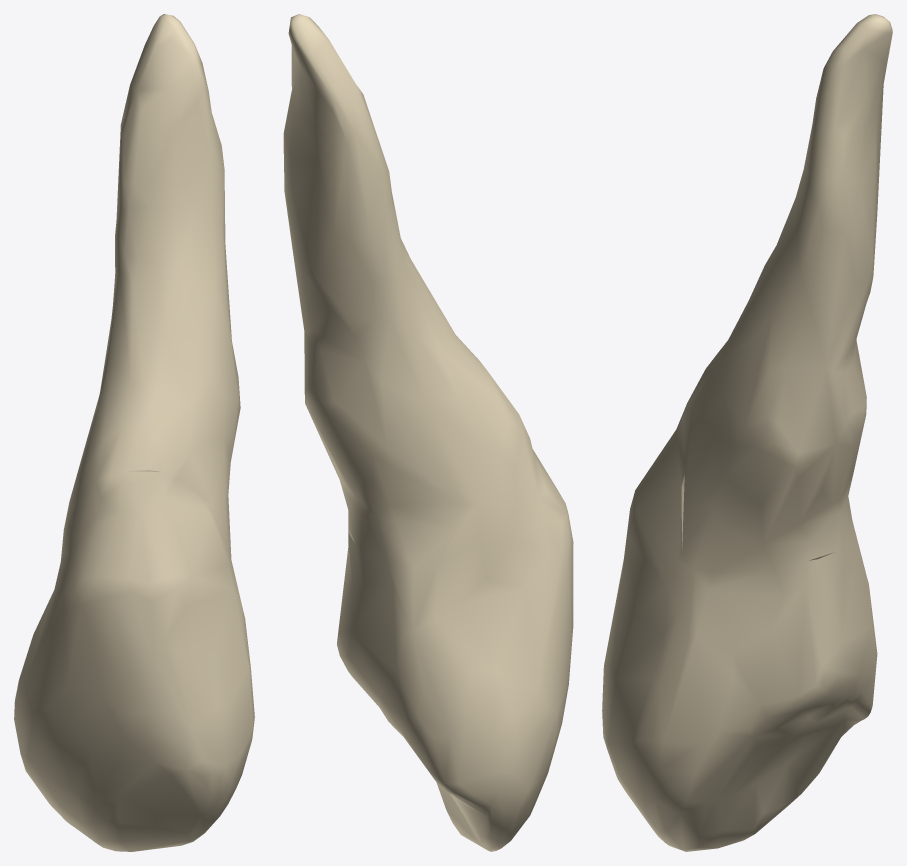
Rendered from esqueleto-upper-canine-r.glb.
The picture shows the model from 3 angles, left to right: view 1: azimuth 30°, elevation 25°; view 2: azimuth 150°, elevation 25°; view 3: azimuth 270°, elevation 25°; orthographic projection. The views are drawn at different scales.
Parts seen in each view (by area): view 1: Upper canine.r; view 2: Upper canine.r; view 3: Upper canine.r.
Boxes of the visible parts, x1,y1,x2,y2 form: Upper canine.r: (14, 14, 254, 851); Upper canine.r: (283, 14, 573, 851); Upper canine.r: (602, 14, 892, 851).
Bounding box in the file's own units: 0.00905 × 0.0306 × 0.00909.
